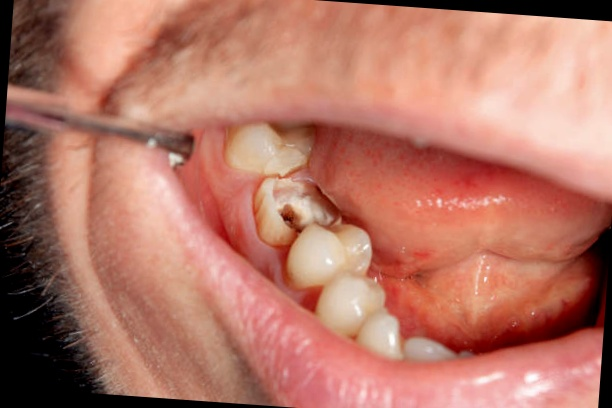Caries: (263, 179, 345, 238)
